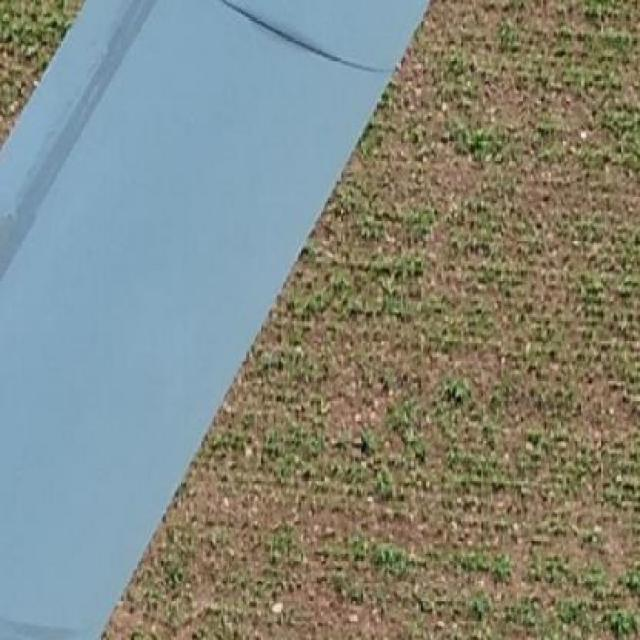Burn Mark: (247, 12, 336, 62)
